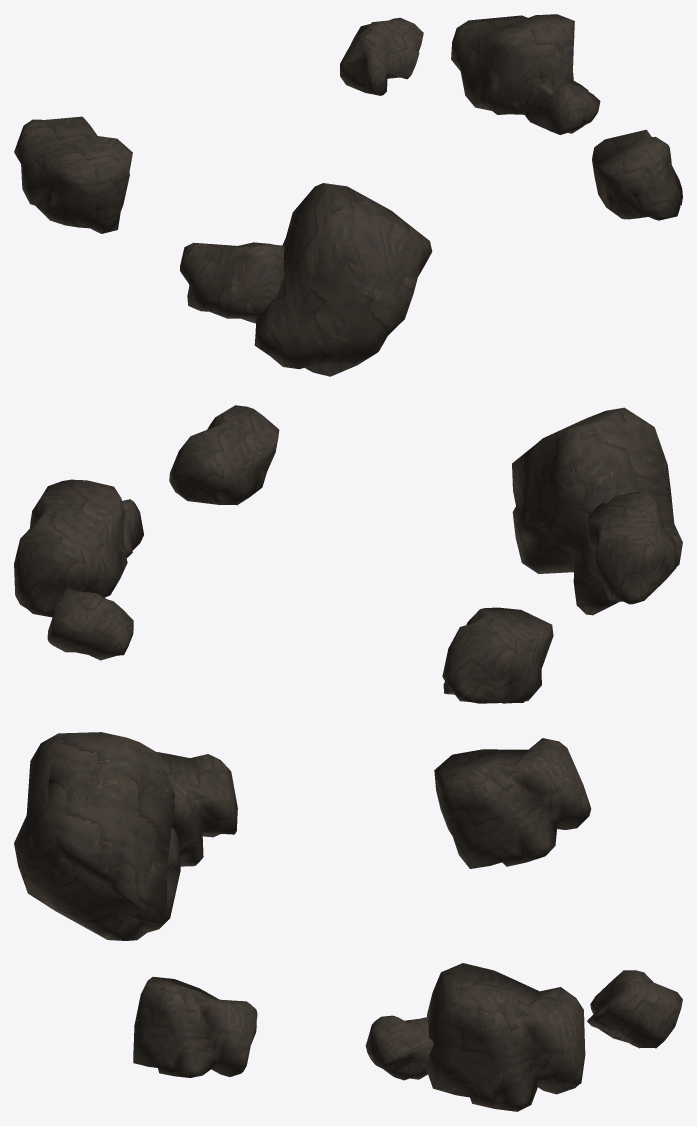
The model's file is Rocks.glb.
The picture shows the model from 3 angles, top to bottom: view 1: azimuth 30°, elevation 25°; view 2: azimuth 150°, elevation 25°; view 3: azimuth 270°, elevation 25°; orthographic projection. The views are drawn at different scales.
Visible parts, largest first — view 1: Ireland Rock Photoscan.001, Ireland Rock Photoscan.003, Ireland Rock Photoscan.004, Ireland Rock Photoscan.002, Ireland Rock Photoscan, Ireland Rock Photoscan.006, Ireland Rock Photoscan.005; view 2: Ireland Rock Photoscan.001, Ireland Rock Photoscan.004, Ireland Rock Photoscan.003, Ireland Rock Photoscan, Ireland Rock Photoscan.002, Ireland Rock Photoscan.006, Ireland Rock Photoscan.005; view 3: Ireland Rock Photoscan.001, Ireland Rock Photoscan.004, Ireland Rock Photoscan.003, Ireland Rock Photoscan, Ireland Rock Photoscan.002, Ireland Rock Photoscan.006, Ireland Rock Photoscan.005.
Part boxes in pixels (<box>): Ireland Rock Photoscan.001: <box>254,183,432,376</box>; Ireland Rock Photoscan.003: <box>14,116,132,233</box>; Ireland Rock Photoscan.004: <box>451,14,574,114</box>; Ireland Rock Photoscan.002: <box>180,242,284,323</box>; Ireland Rock Photoscan: <box>592,129,682,220</box>; Ireland Rock Photoscan.006: <box>340,17,423,95</box>; Ireland Rock Photoscan.005: <box>523,79,600,134</box>; Ireland Rock Photoscan.001: <box>512,407,682,615</box>; Ireland Rock Photoscan.004: <box>14,479,127,617</box>; Ireland Rock Photoscan.003: <box>442,607,553,703</box>; Ireland Rock Photoscan: <box>169,405,279,505</box>; Ireland Rock Photoscan.002: <box>587,491,677,604</box>; Ireland Rock Photoscan.006: <box>47,588,133,660</box>; Ireland Rock Photoscan.005: <box>122,499,143,557</box>; Ireland Rock Photoscan.001: <box>14,732,180,940</box>; Ireland Rock Photoscan.004: <box>426,963,585,1111</box>; Ireland Rock Photoscan.003: <box>434,738,591,868</box>; Ireland Rock Photoscan: <box>133,976,257,1077</box>; Ireland Rock Photoscan.002: <box>157,752,237,866</box>; Ireland Rock Photoscan.006: <box>587,970,682,1048</box>; Ireland Rock Photoscan.005: <box>365,1015,433,1080</box>.
Size of the model in its own units: 1152 by 387 by 1133.
Materials: 1 (1 with a texture image).
